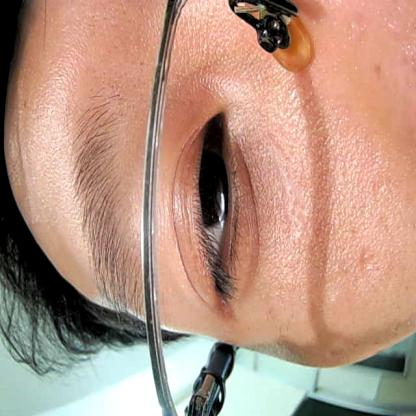Left: (169, 103, 265, 311)
